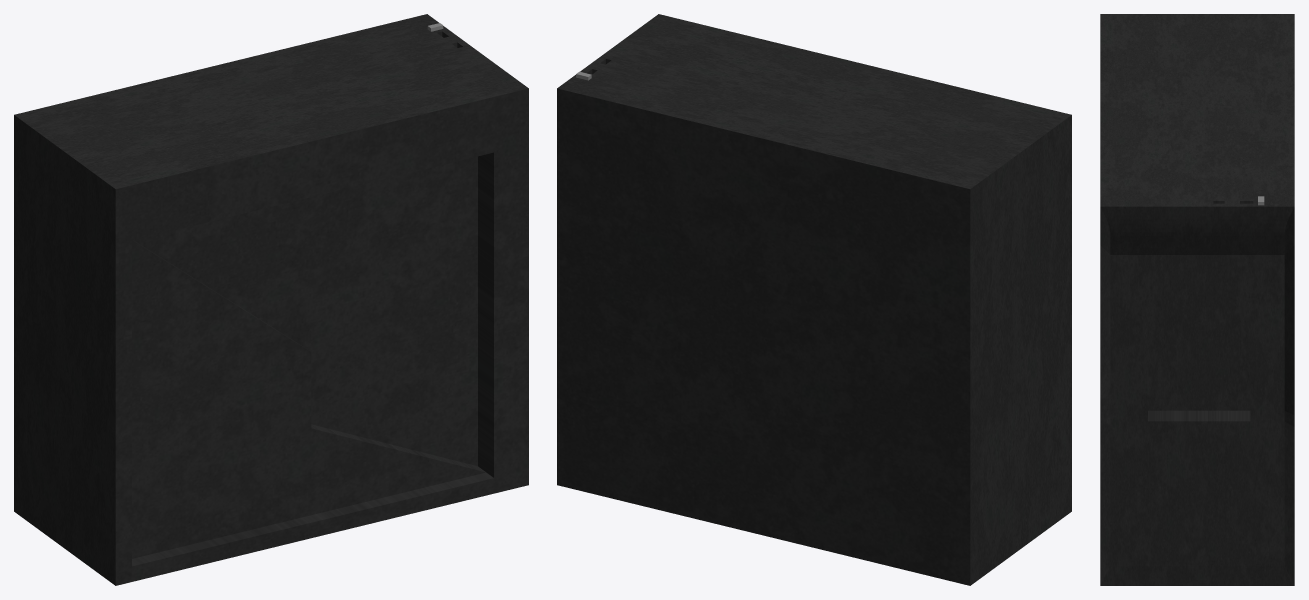
The picture shows the model from 3 angles, left to right: view 1: azimuth 30°, elevation 25°; view 2: azimuth 150°, elevation 25°; view 3: azimuth 270°, elevation 25°; orthographic projection. The views are drawn at different scales.
Visible parts, largest first — view 1: Cube; view 2: Cube; view 3: Cube.
Part boxes in pixels (x1=…): Cube: x1=14, y1=14, x2=528, y2=585; Cube: x1=557, y1=14, x2=1071, y2=585; Cube: x1=1100, y1=14, x2=1294, y2=585.
Size of the model in its own units: 367 by 340 by 157.
Materials: 2 (1 with a texture image).
